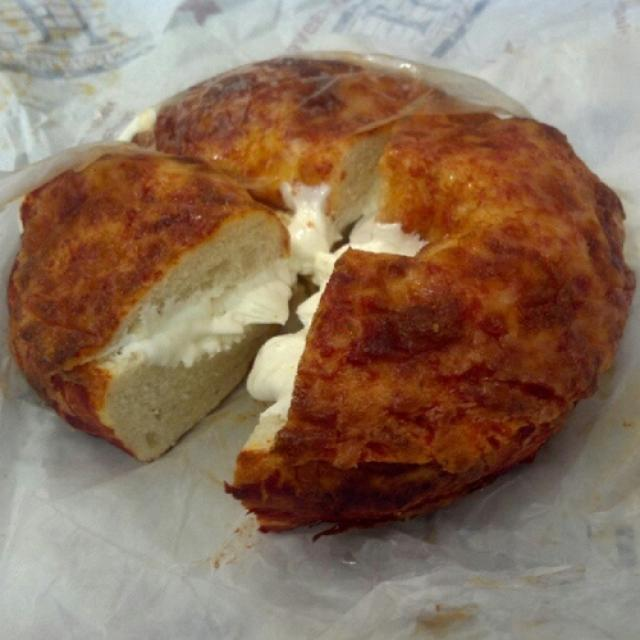面包点心: (13, 45, 630, 567)
